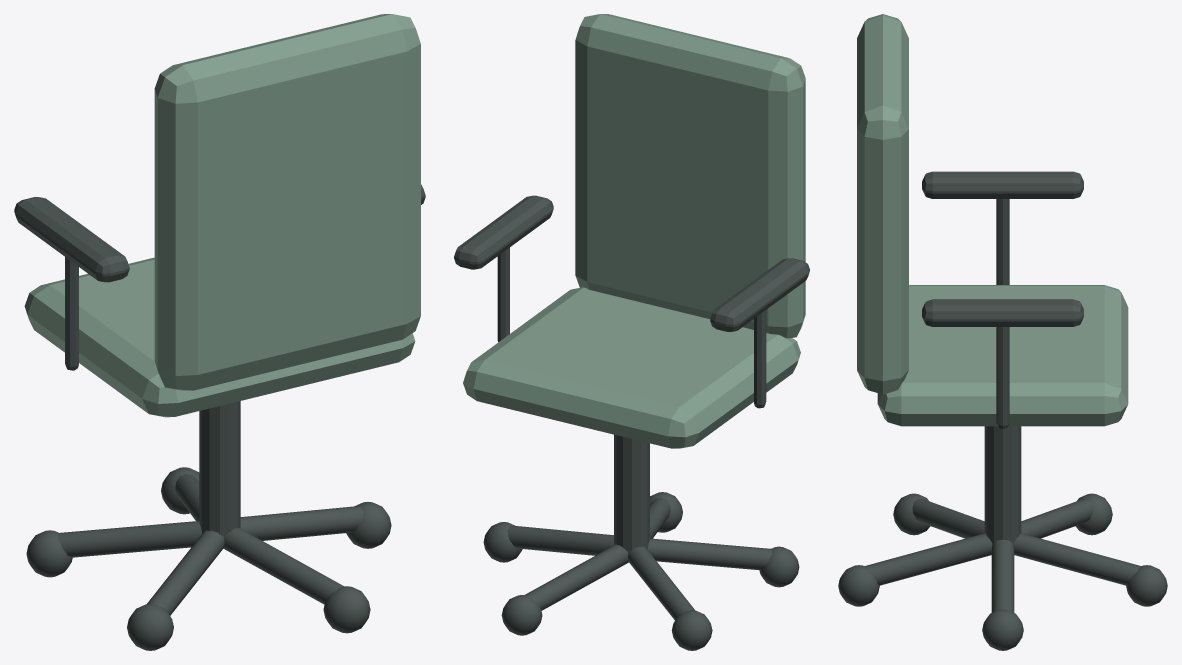
File: chair.glb
3 views of the same model, side by side, from view 1: azimuth 30°, elevation 25°; view 2: azimuth 150°, elevation 25°; view 3: azimuth 270°, elevation 25° (orthographic). The views are drawn at different scales.
Visible parts, largest first — view 1: chair Sage upholstery, chair Graphite powder coat; view 2: chair Sage upholstery, chair Graphite powder coat; view 3: chair Sage upholstery, chair Graphite powder coat.
Boxes of the visible parts, x1,y1,x2,y2 form: chair Sage upholstery: (24, 14, 420, 417); chair Graphite powder coat: (14, 184, 425, 650); chair Sage upholstery: (463, 14, 805, 448); chair Graphite powder coat: (454, 195, 809, 650); chair Sage upholstery: (857, 14, 1128, 426); chair Graphite powder coat: (838, 171, 1167, 650).
Bounding box in the file's own units: 0.6525 × 1.11 × 0.6316.
